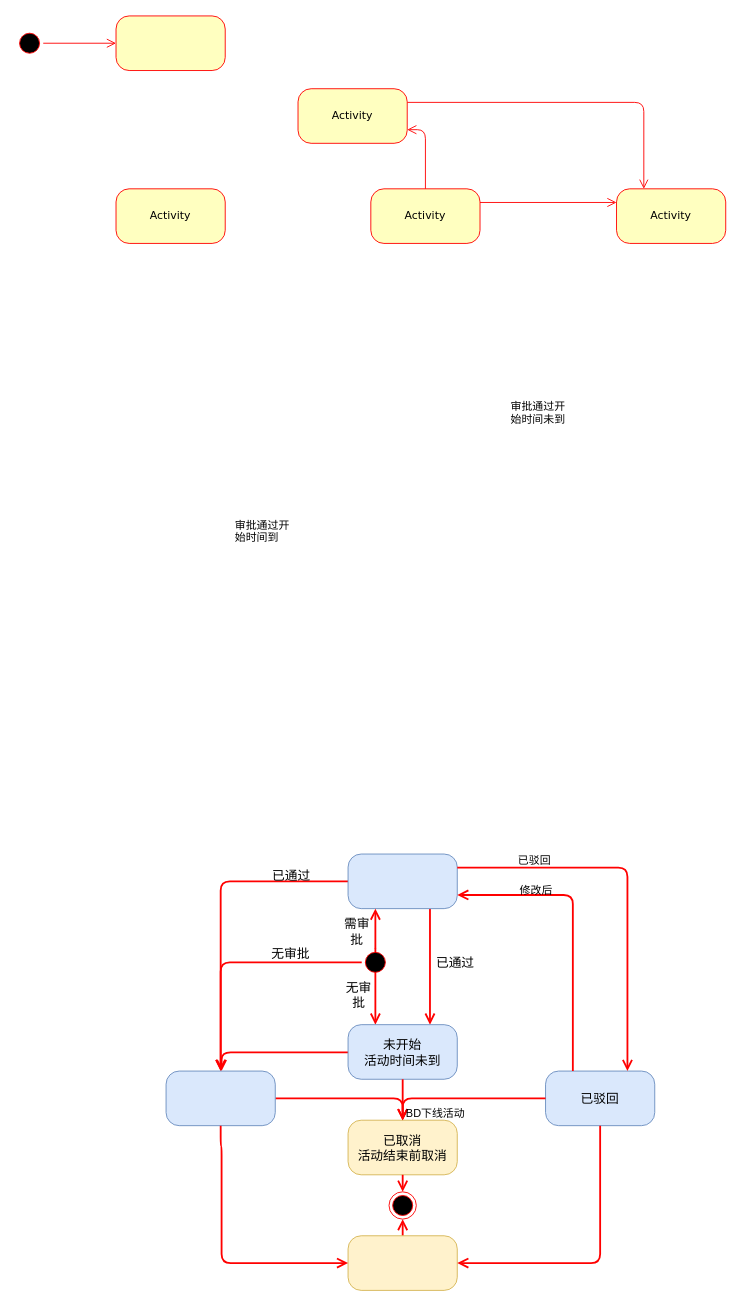
Some shapes in this 742 by 1307 pixel diagram are drawn without their labels. Here are the shapes that lost their labels. From the top down, the centre of each, then its label:
At point (170, 43): "活动创建".
At point (402, 881): "审批中".
At point (220, 1098): "进行中 活动时间已到".
At point (402, 1262): "已结束 活动结束时间到".
